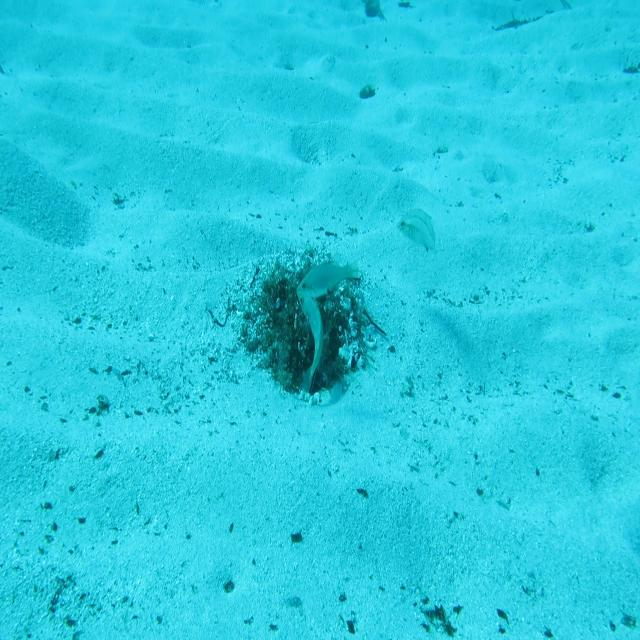SHAK: (296, 284, 326, 402)
female: (395, 206, 441, 263)
nest: (238, 250, 390, 408)
other_fish: (295, 254, 366, 304)
